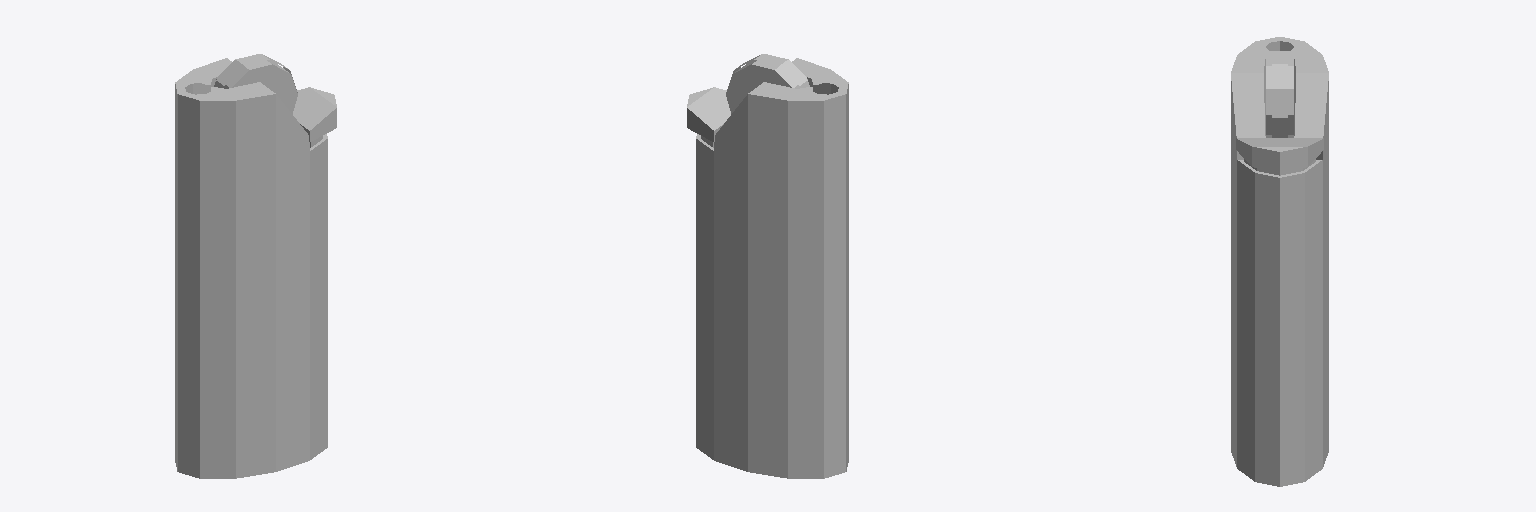
Rendered from Lighter.obj.
3 views of the same model, side by side, from view 1: azimuth 30°, elevation 25°; view 2: azimuth 150°, elevation 25°; view 3: azimuth 270°, elevation 25° (orthographic).
Visible parts, largest first — view 1: LighterBody, MetalTop, LighterButton, LighterBottom; view 2: LighterBody, MetalTop, LighterButton, LighterBottom; view 3: LighterBody, MetalTop, LighterButton, LighterBottom.
Part boxes in pixels (x1,y1,x2,y2): LighterBody: (175,134,327,469); MetalTop: (175,54,309,169); LighterButton: (293,87,336,147); LighterBottom: (175,439,327,478); LighterBody: (696,134,848,469); MetalTop: (714,54,848,169); LighterButton: (687,87,730,147); LighterBottom: (696,439,848,478); LighterBody: (1231,108,1328,478); MetalTop: (1231,37,1328,157); LighterButton: (1236,138,1323,175); LighterBottom: (1231,445,1328,486).
Size of the model in its own units: 1.27 by 3.04 by 0.6894.